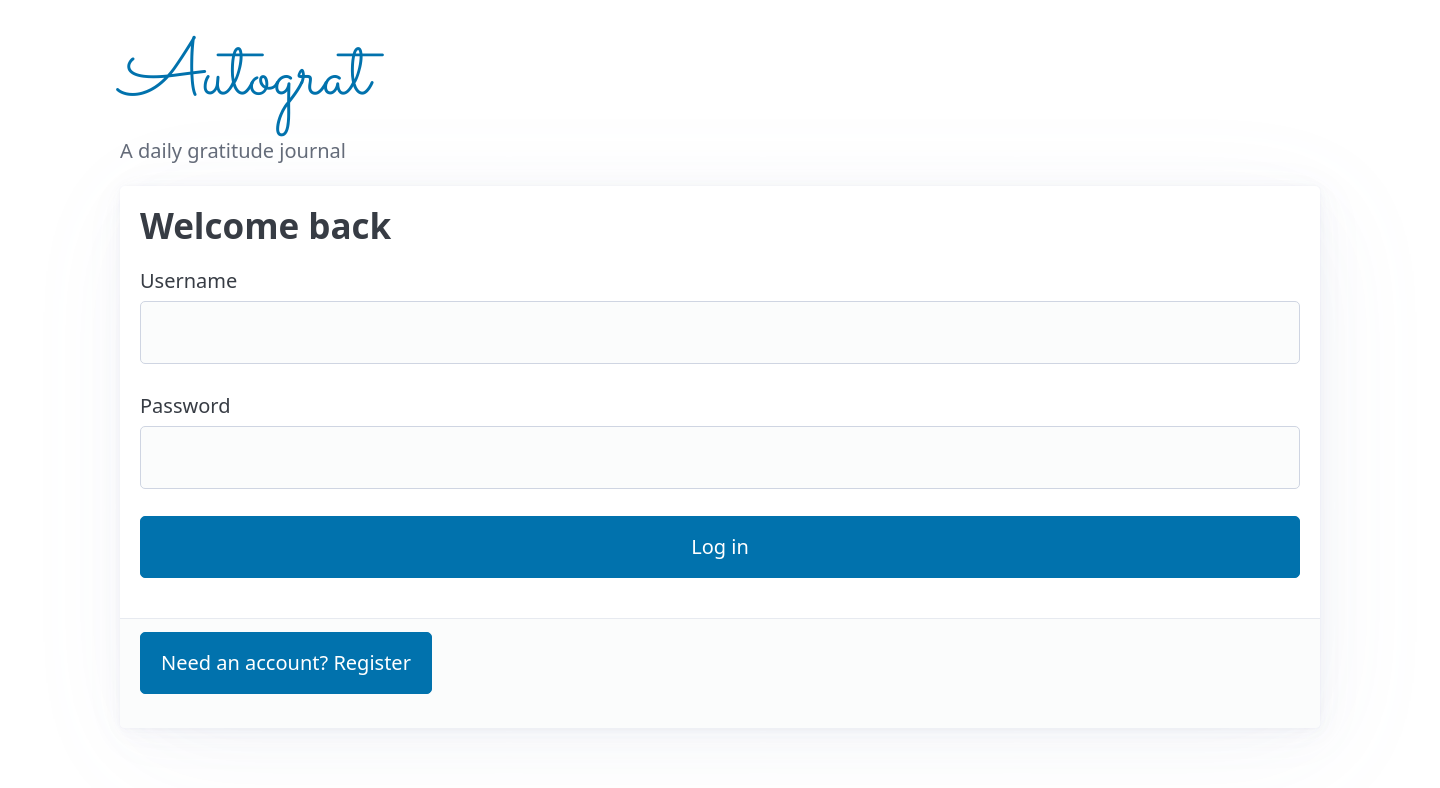
Test: LoginPage › does not log in a pending user after registering and explains that approval is needed
The image size is (1440, 788).
Click the button "Need an account? Register". click: coordinates (286, 663)
box: [140,632,432,694]
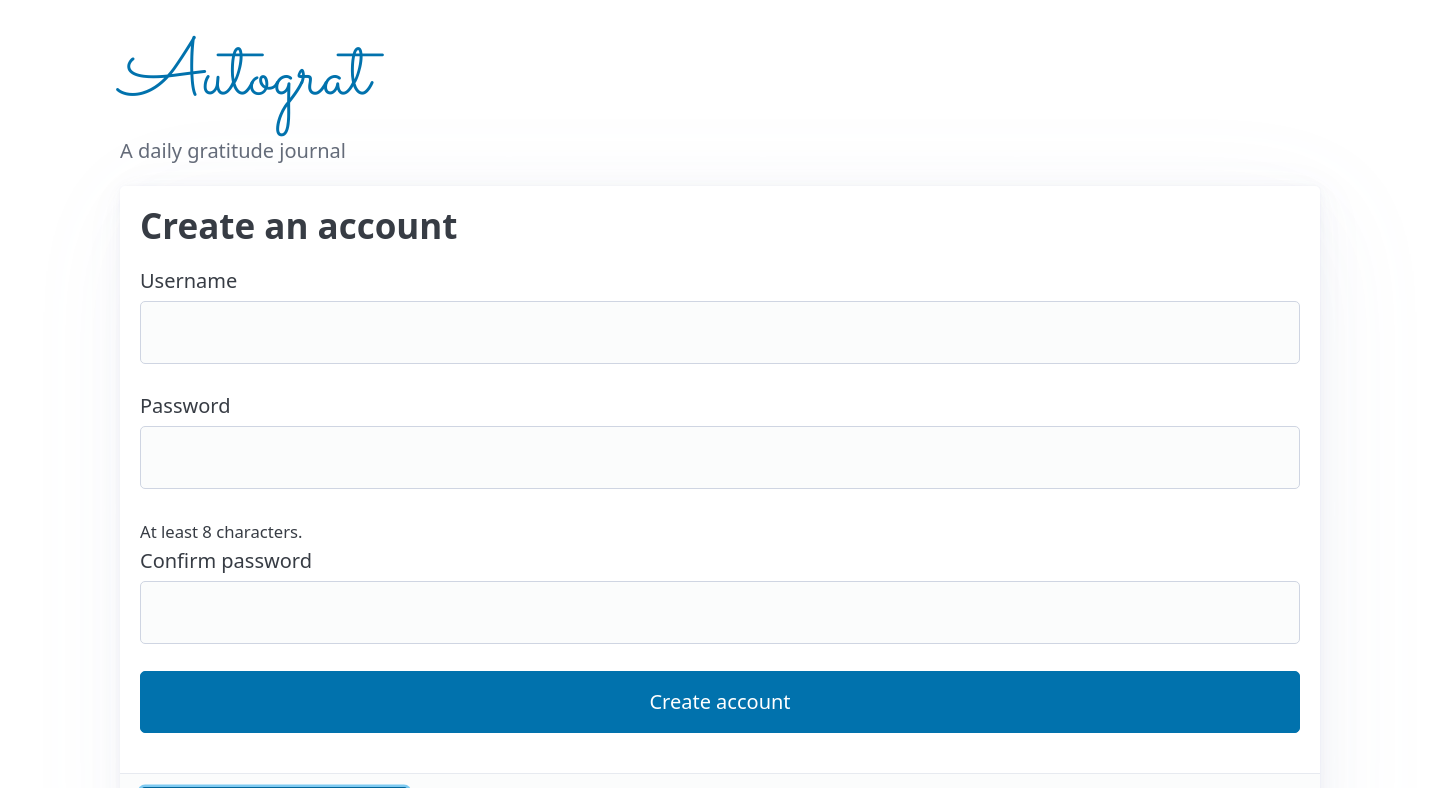
Type "billy" into the field labelled "Username". click: coordinates (720, 333)
box: [140,301,1300,364]
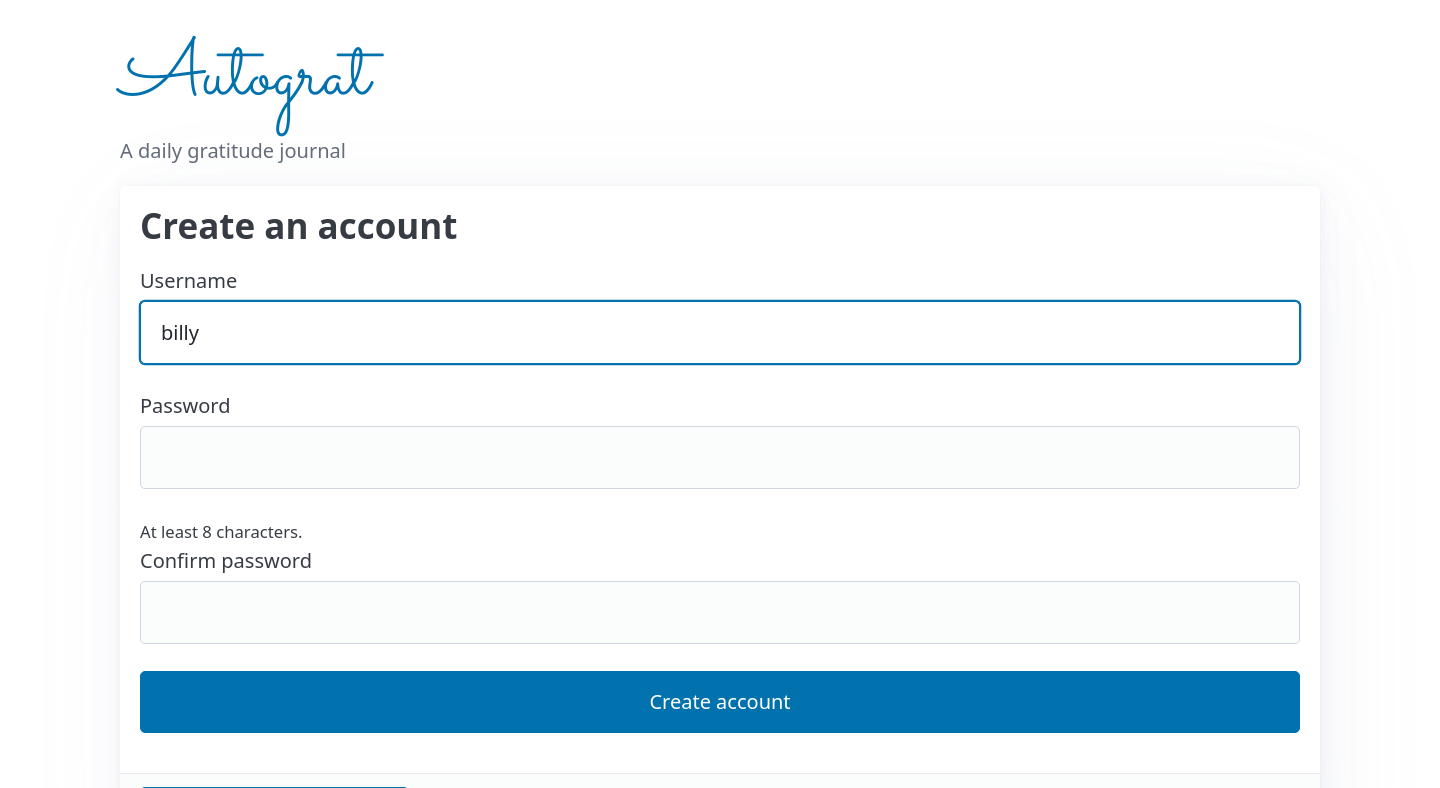
Type "password" into the password field labelled "Password". click: coordinates (720, 458)
box: [140,426,1300,489]
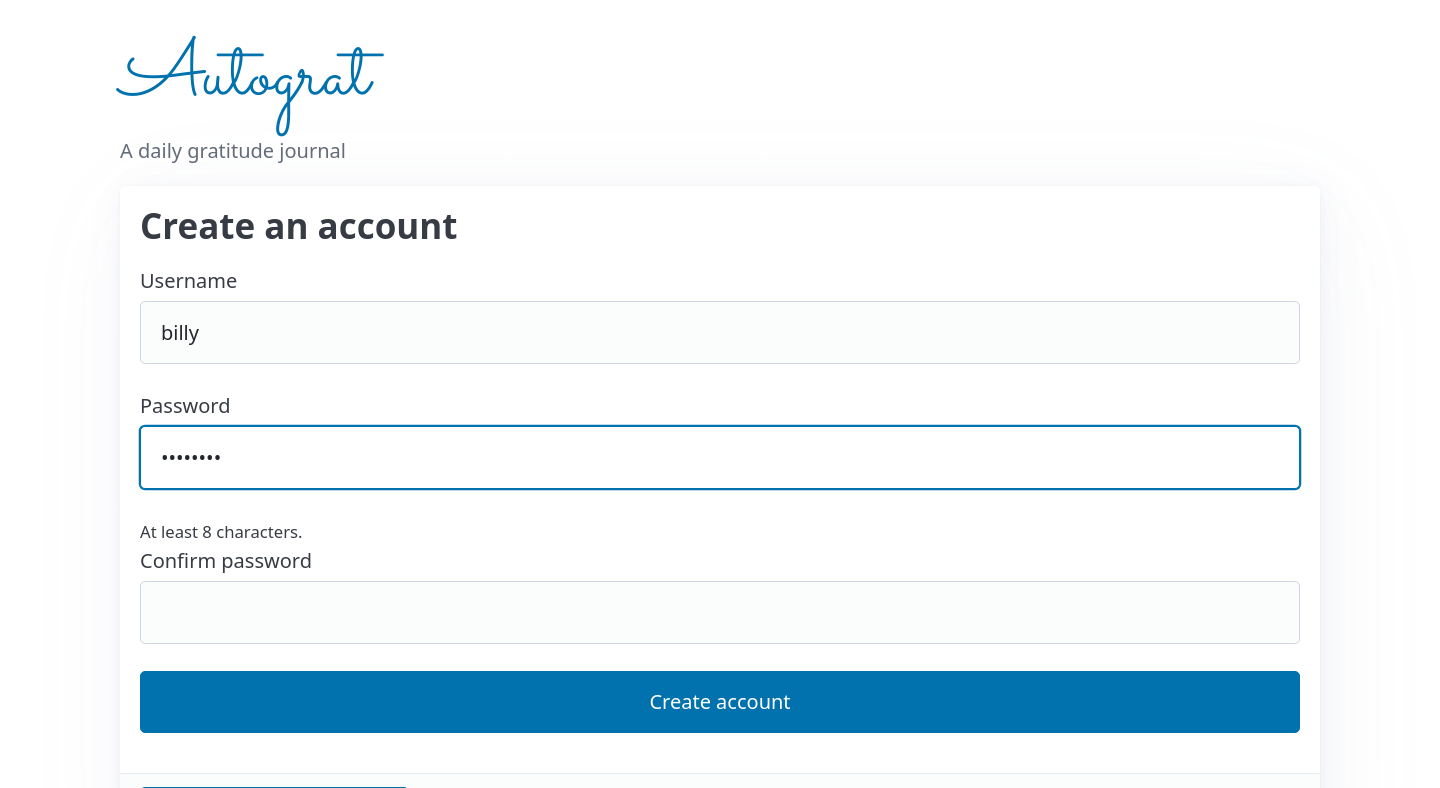
Type "password" into the password field labelled "Confirm password". click: coordinates (720, 613)
box: [140,581,1300,644]
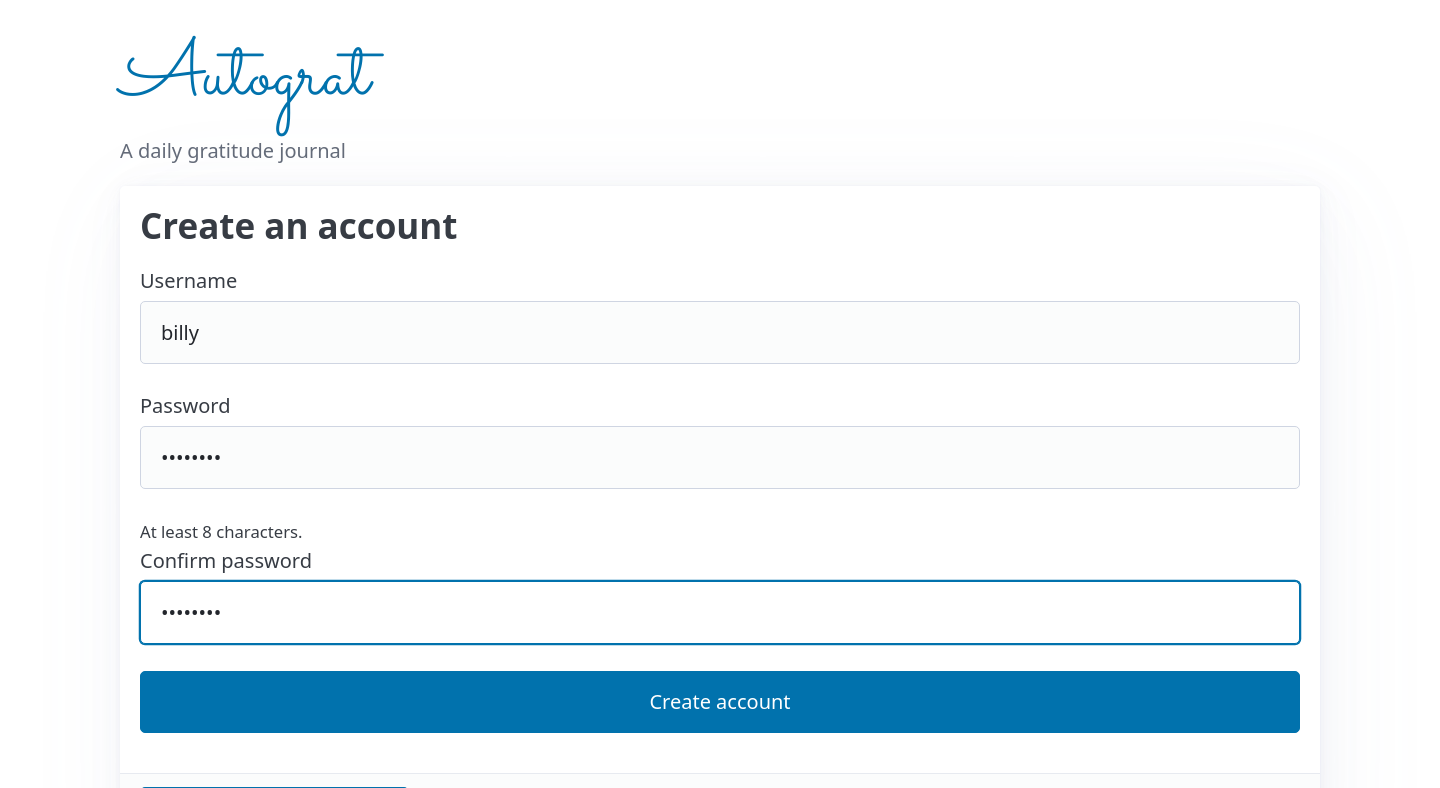
Click the button "Create account". click: coordinates (720, 702)
box: [140,671,1300,733]
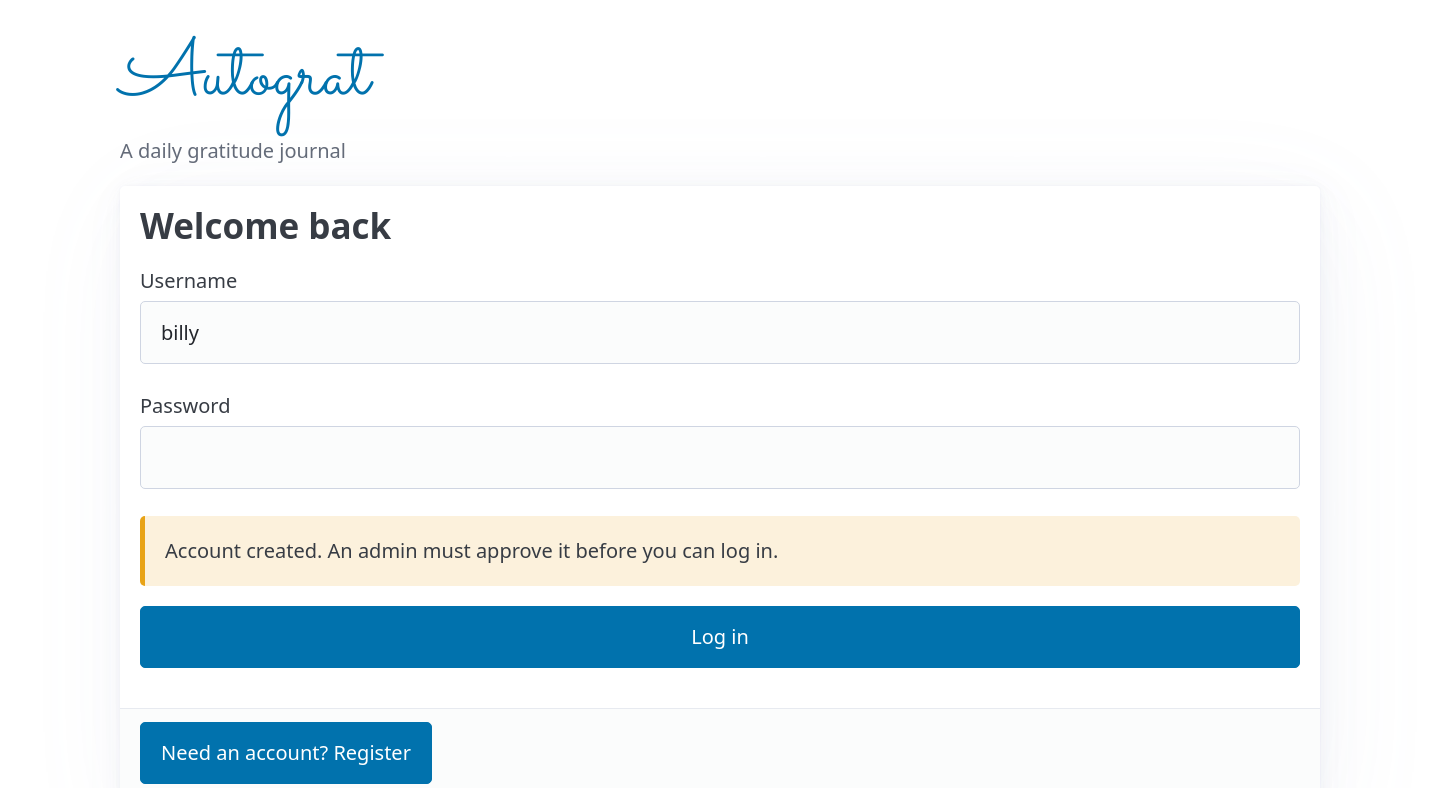
Check: the message reads "Account created. An admin must approve it before you can log in.", box [165,537,778,564]
Check: the button "Log in" is shown, box [140,606,1300,668]
